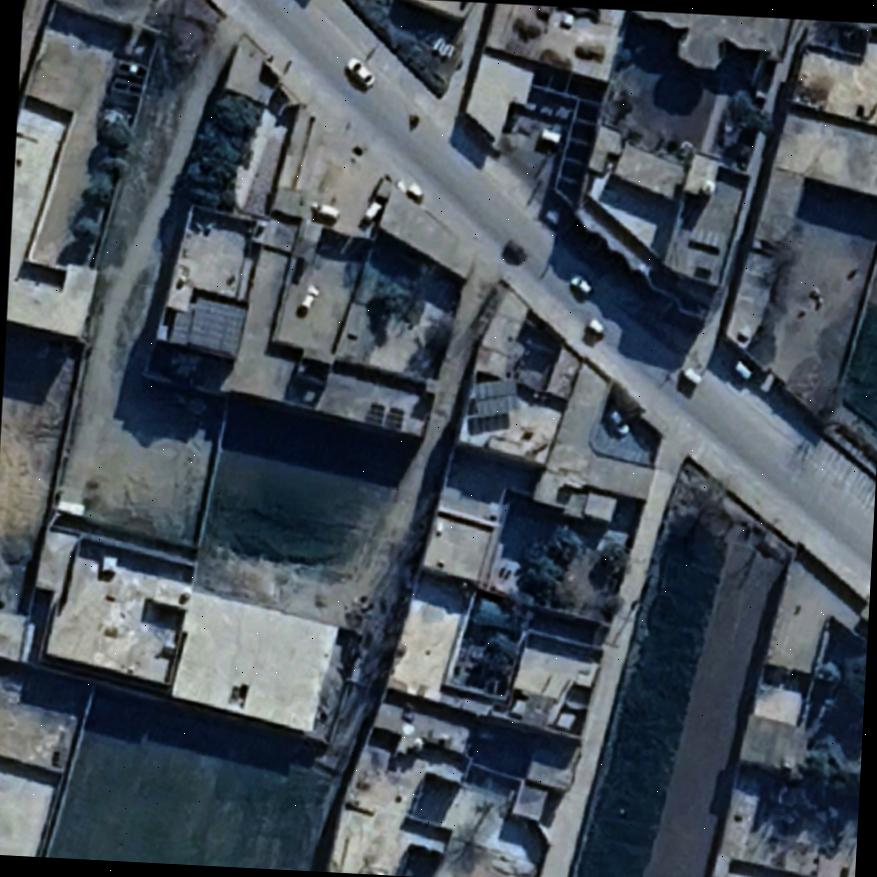Solarpanel: (167, 289, 247, 357), (469, 376, 520, 420), (383, 406, 405, 432), (363, 401, 385, 426)
